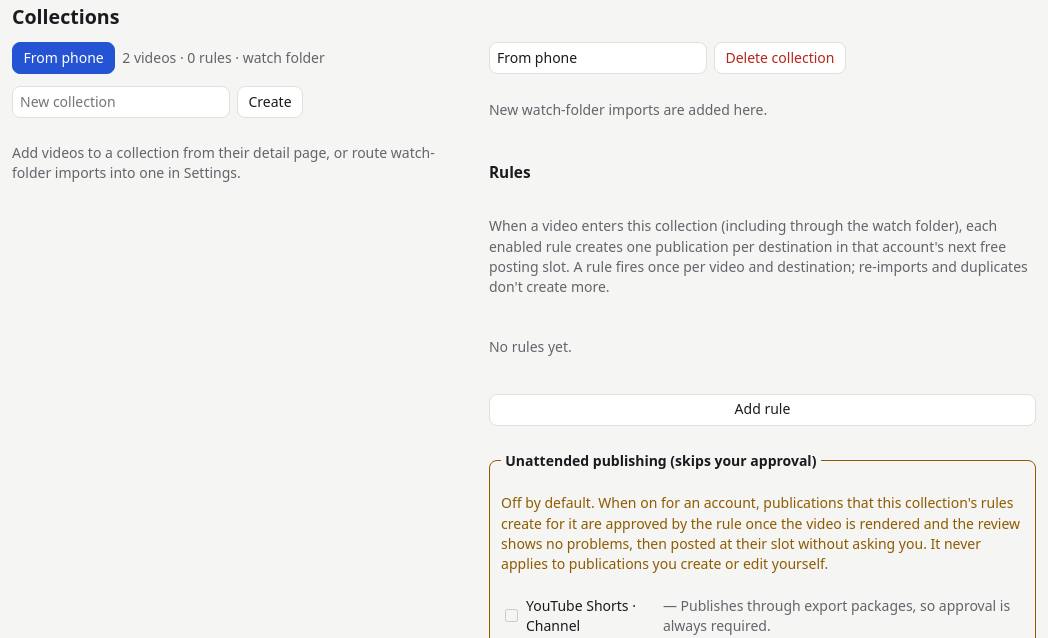
Scenario: Collections › creates a rule that submits publications for approval by default
Click the button "Add rule". click: click(762, 410)
box: [489,394,1036,426]
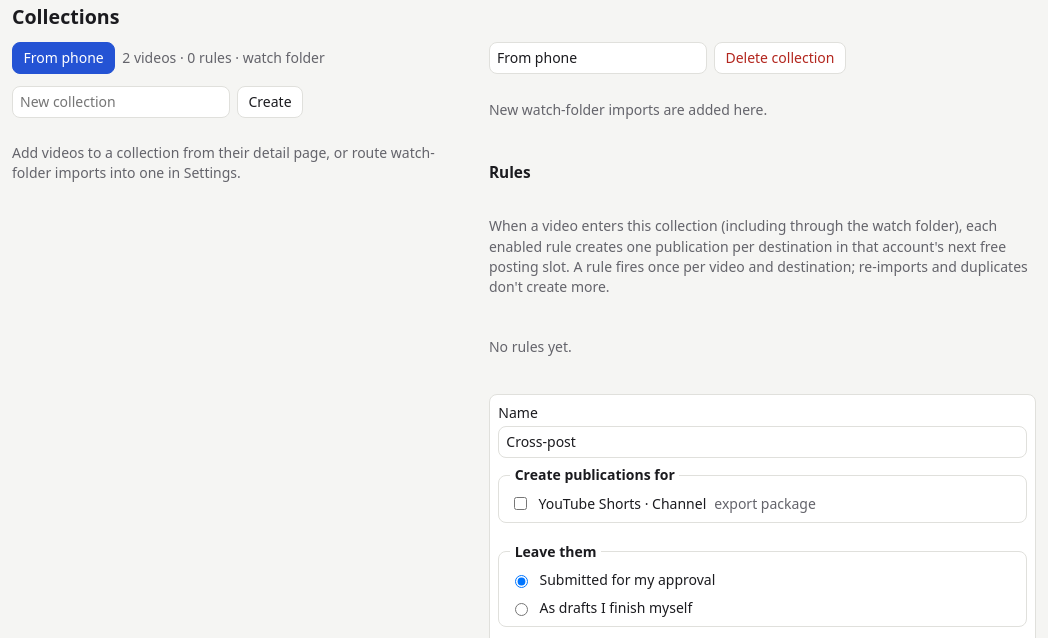
Click the checkbox labelled "YouTube Shorts · Channel export package". click: click(521, 504)
box: [514,497,528,510]
(page scrolled)
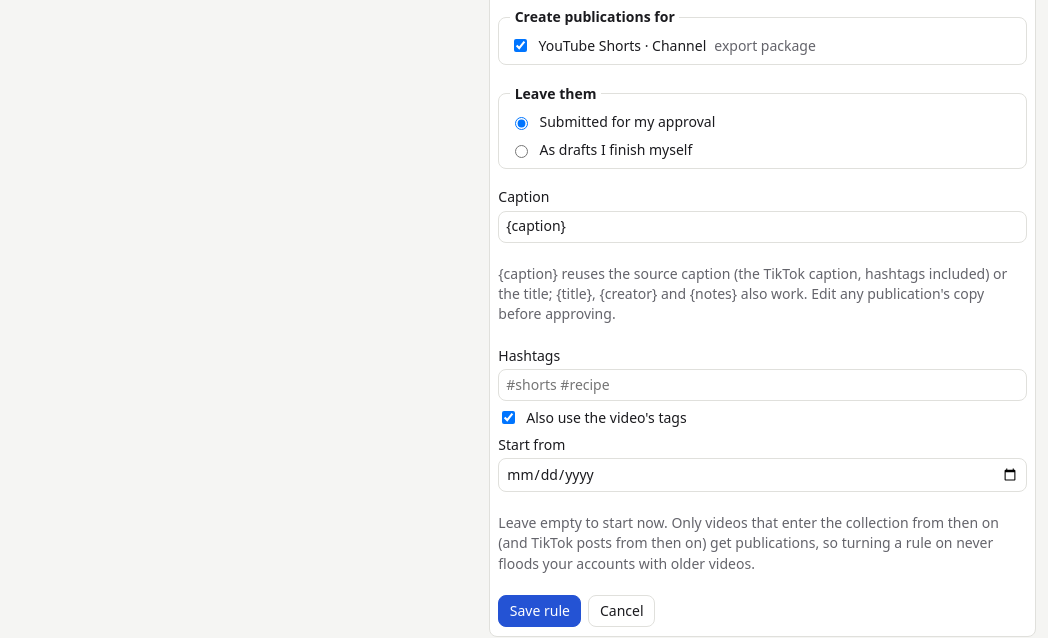
Type "#shorts" into the field with placeholder "#shorts #recipe". click: (762, 385)
box: [498,369,1027,401]
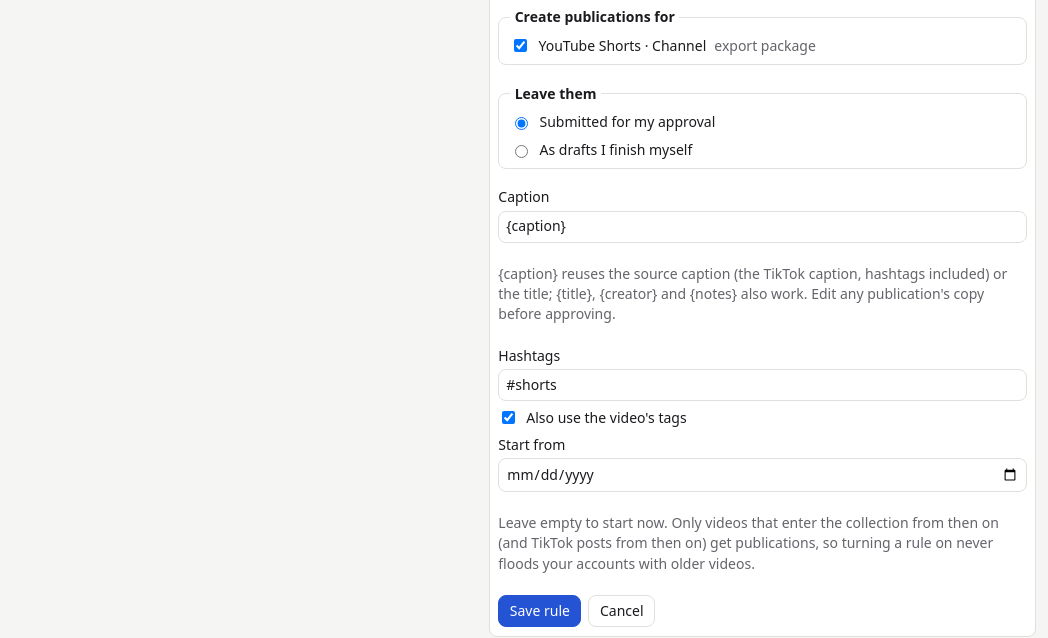
Click the button "Save rule". click: click(540, 611)
box: [498,595,581,627]
(page scrolled)
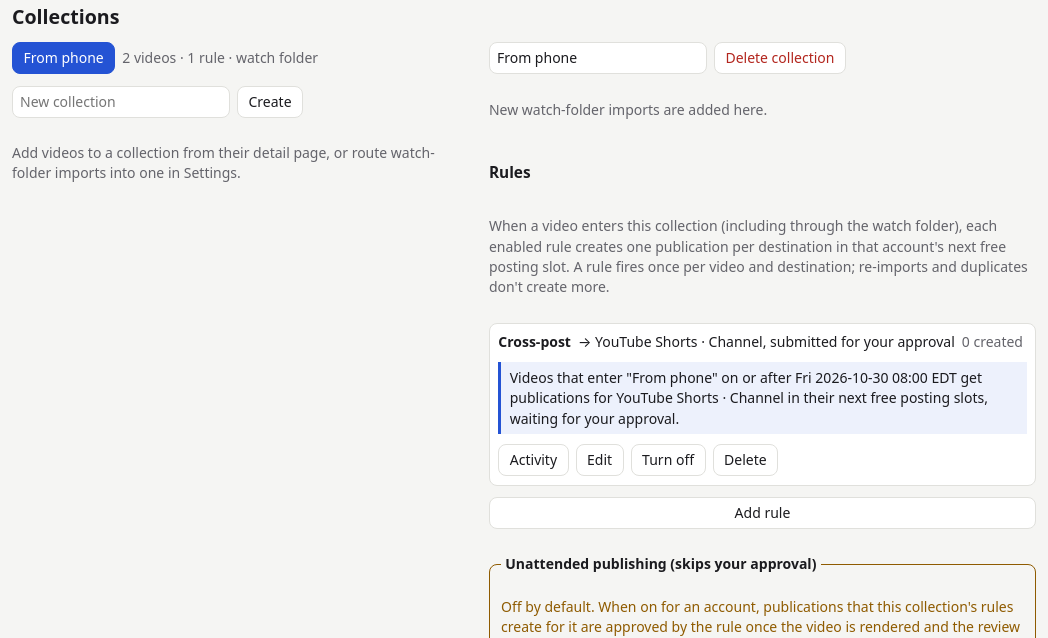
Expected: the list item with test id "rule" is shown, [489,323,1036,486]
Expected: the text "→ YouTube Shorts · Channel, submitted for your approval" is shown, [578,332,955,352]
Expected: the text with test id "rule-summary" shows "on or after Fri 2026-10-30", [510,368,988,428]
